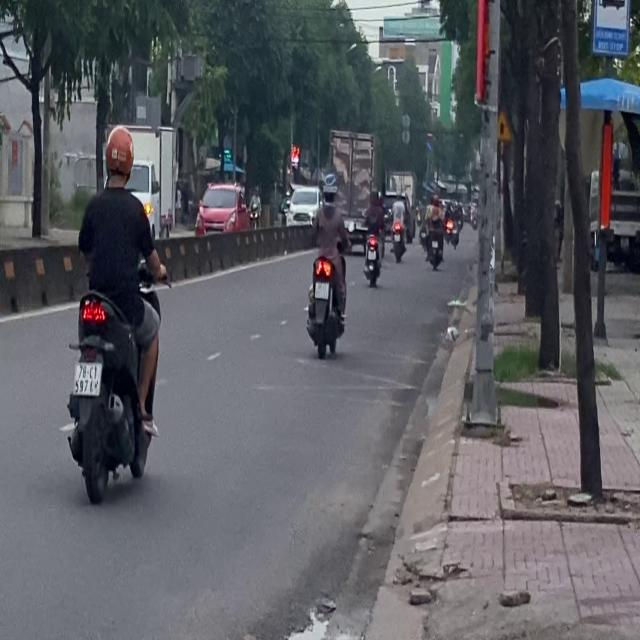helmet: (102, 124, 135, 186)
licenseplate: (64, 123, 165, 501)
nohelmet: (74, 363, 101, 396)
